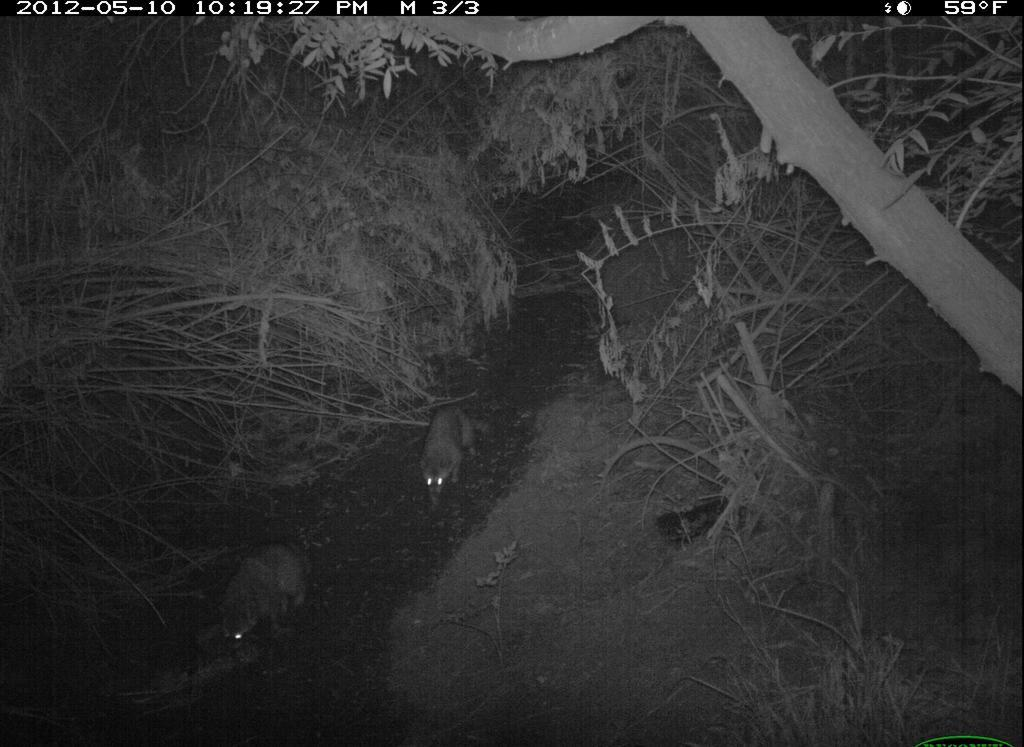raccoon: (209, 529, 321, 658), (410, 396, 483, 519)
